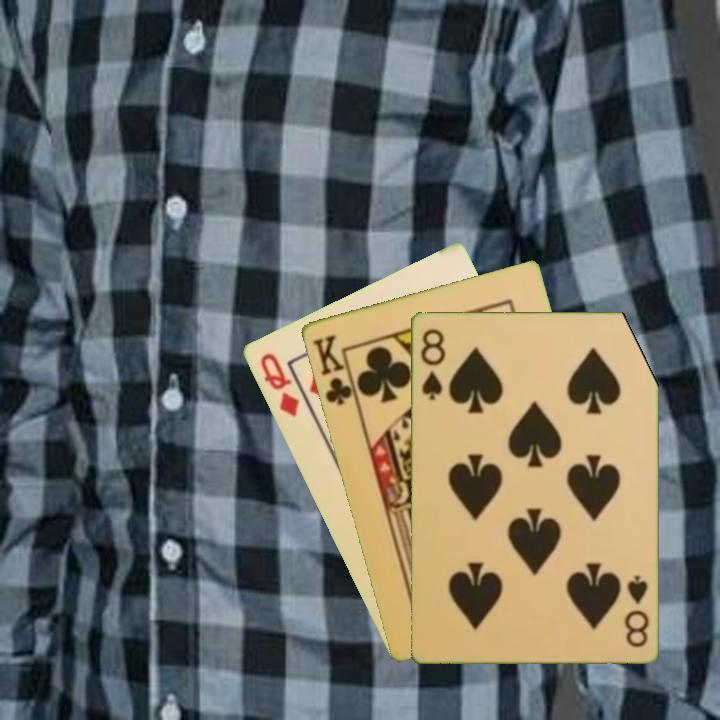8s: (416, 325, 447, 403), (621, 572, 652, 650)
Kc: (309, 330, 359, 408)
Qd: (256, 349, 302, 420)
